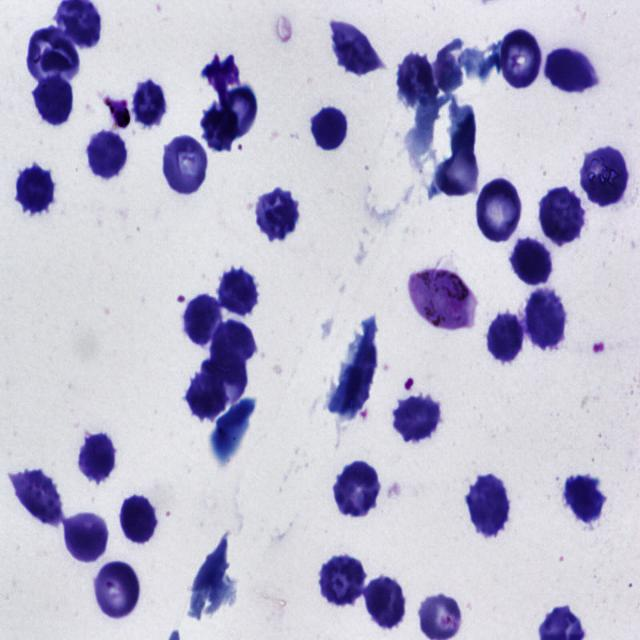gametocyte: (410, 268, 472, 330)
red blood cell: (27, 24, 80, 89), (580, 144, 631, 208), (476, 176, 522, 242), (330, 18, 378, 80), (545, 44, 597, 100), (162, 132, 208, 195), (335, 463, 384, 522), (497, 26, 542, 90), (15, 464, 60, 525), (200, 347, 247, 404), (319, 554, 368, 608), (468, 474, 511, 535), (540, 187, 586, 244), (525, 288, 567, 348), (96, 562, 139, 619), (394, 394, 442, 443), (396, 53, 437, 107), (509, 237, 554, 286), (365, 576, 403, 634), (62, 515, 110, 560), (219, 85, 259, 139), (34, 72, 74, 125), (87, 130, 129, 180), (78, 432, 120, 482), (218, 268, 260, 318), (119, 492, 158, 545), (418, 593, 461, 640), (16, 165, 56, 215), (435, 148, 475, 198), (487, 311, 525, 363), (186, 373, 228, 420), (214, 319, 255, 367), (184, 294, 222, 345), (199, 104, 239, 151), (132, 79, 168, 131), (434, 39, 468, 94), (258, 195, 297, 241), (310, 106, 348, 153), (565, 475, 604, 519)
